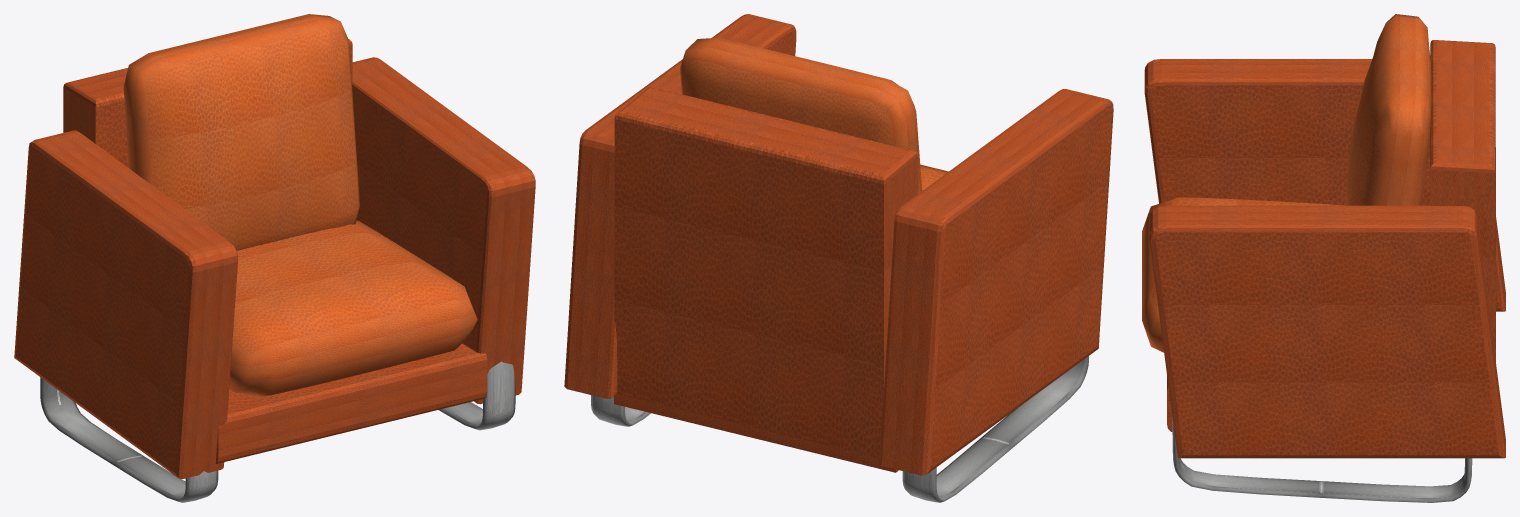
Rendered from sofaNaranja.FBX.
The picture shows the model from 3 angles, left to right: view 1: azimuth 30°, elevation 25°; view 2: azimuth 150°, elevation 25°; view 3: azimuth 270°, elevation 25°; orthographic projection. The views are drawn at different scales.
Parts seen in each view (by area): view 1: LateralIzq, AlmoadonTrasero, LateralDer, AlmoadonInferior, Base, PataIzq, Respaldo, PataDer; view 2: Respaldo, LateralIzq, AlmoadonTrasero, LateralDer, PataIzq, Base, PataDer; view 3: LateralDer, LateralIzq, AlmoadonTrasero, Respaldo, PataDer, AlmoadonInferior.
Part boxes in pixels (x1=…): LateralIzq: x1=14, y1=130, x2=237, y2=478; AlmoadonTrasero: x1=123, y1=14, x2=359, y2=250; LateralDer: x1=351, y1=57, x2=535, y2=404; AlmoadonInferior: x1=229, y1=220, x2=477, y2=396; Base: x1=215, y1=343, x2=487, y2=463; PataIzq: x1=40, y1=377, x2=218, y2=502; Respaldo: x1=63, y1=39, x2=352, y2=167; PataDer: x1=439, y1=361, x2=515, y2=430; Respaldo: x1=614, y1=86, x2=918, y2=457; LateralIzq: x1=879, y1=89, x2=1113, y2=475; AlmoadonTrasero: x1=680, y1=37, x2=922, y2=193; LateralDer: x1=564, y1=14, x2=796, y2=398; PataIzq: x1=902, y1=356, x2=1088, y2=502; Base: x1=614, y1=394, x2=898, y2=472; PataDer: x1=591, y1=395, x2=650, y2=426; LateralDer: x1=1149, y1=205, x2=1505, y2=458; LateralIzq: x1=1144, y1=59, x2=1505, y2=311; AlmoadonTrasero: x1=1346, y1=14, x2=1431, y2=205; Respaldo: x1=1430, y1=40, x2=1495, y2=361; PataDer: x1=1172, y1=417, x2=1472, y2=502; AlmoadonInferior: x1=1142, y1=196, x2=1344, y2=352.
Bounding box in the file's own units: 1.6 × 1.44 × 1.61.
